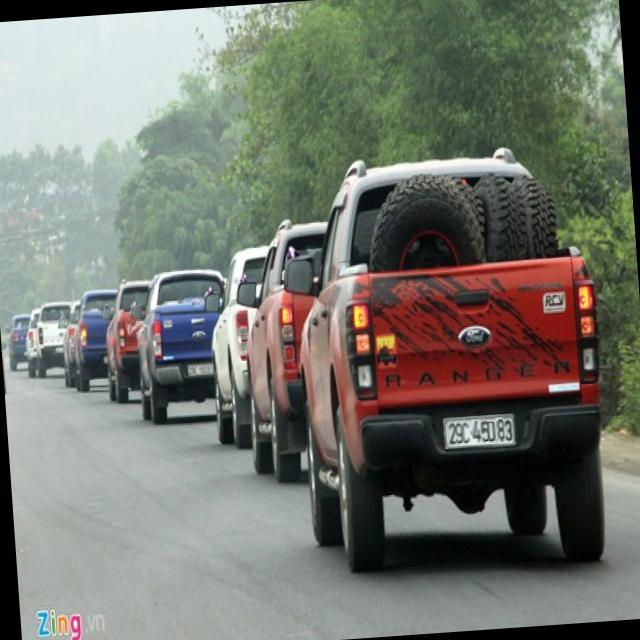car: (269, 156, 614, 576), (116, 265, 236, 428), (8, 294, 78, 382)
plate: (440, 410, 522, 453)
